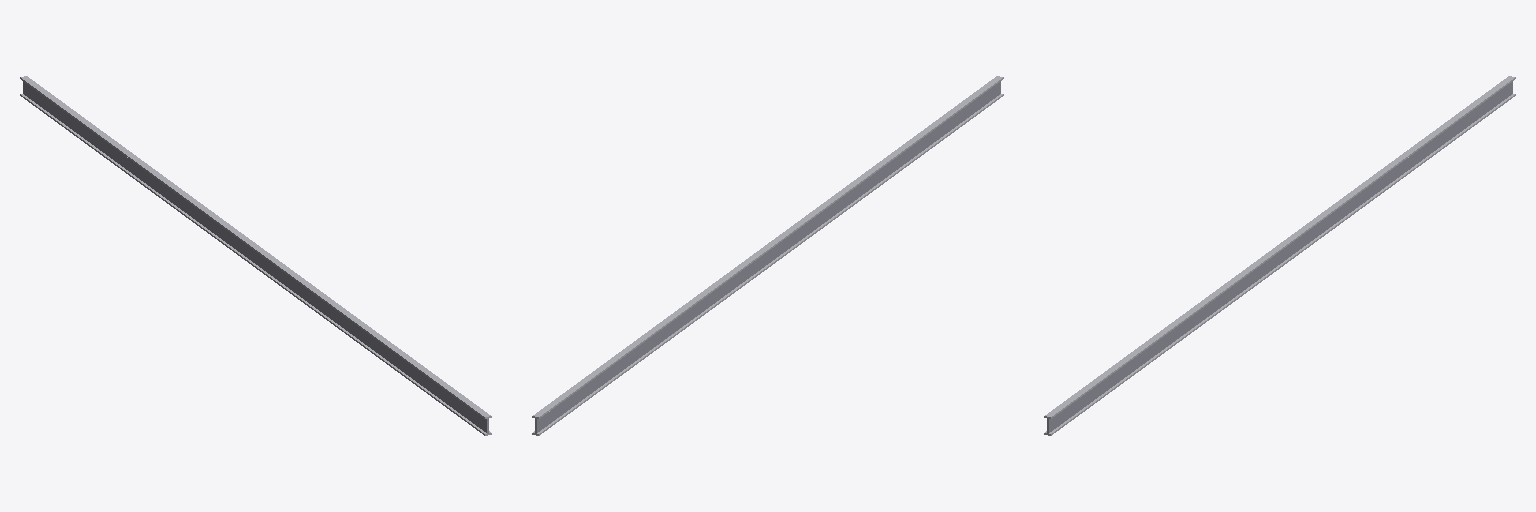
robot.urdf — h_bar:
<?xml version="1.0" ?>
<!-- =================================================================================== -->
<!-- |    This document was autogenerated by xacro from h_bar.xacro                    | -->
<!-- |    EDITING THIS FILE BY HAND IS NOT RECOMMENDED                                 | -->
<!-- =================================================================================== -->
<robot name="h_bar">
  <link name="world"/>
  <!-- Bottom leg (aligned with z-axis after rotation, below origin) -->
  <link name="hbar_bottom_leg">
    <visual>
      <origin rpy="0 1.57079633 0" xyz="0 0 0"/>
      <geometry>
        <!-- thickness x, profile width y, leg length along local z -->
        <box size="0.01 5.0 0.04"/>
      </geometry>
      <material name="hbar_material_bottom">
        <!-- Brushed steel-like gray -->
        <color rgba="0.75 0.75 0.78 1.0"/>
      </material>
    </visual>
    <collision>
      <origin rpy="0 1.57079633 0" xyz="0 0 0"/>
      <geometry>
        <box size="0.01 5.0 0.04"/>
      </geometry>
    </collision>
    <inertial>
      <origin rpy="0 0 0" xyz="0 0 0"/>
      <mass value="0.3333333333333333"/>
      <inertia ixx="0.6944888888888888" ixy="0.0" ixz="0.0" iyy="4.722222222222222e-05" iyz="0.0" izz="0.6944472222222222"/>
    </inertial>
  </link>
  <!-- Top leg (aligned with z-axis after rotation, above origin) -->
  <link name="hbar_top_leg">
    <visual>
      <origin rpy="0 1.57079633 0" xyz="0 0 0"/>
      <geometry>
        <box size="0.01 5.0 0.04"/>
      </geometry>
      <material name="hbar_material_top">
        <!-- Brushed steel-like gray -->
        <color rgba="0.75 0.75 0.78 1.0"/>
      </material>
    </visual>
    <collision>
      <origin rpy="0 1.57079633 0" xyz="0 0 0"/>
      <geometry>
        <box size="0.01 5.0 0.04"/>
      </geometry>
    </collision>
    <inertial>
      <origin rpy="0 0 0" xyz="0 0 0"/>
      <mass value="0.3333333333333333"/>
      <inertia ixx="0.6944888888888888" ixy="0.0" ixz="0.0" iyy="4.722222222222222e-05" iyz="0.0" izz="0.6944472222222222"/>
    </inertial>
  </link>
  <!-- Crossbar: vertical (aligned with z-axis) at the origin -->
  <link name="hbar_crossbar">
    <visual>
      <!-- Thickness in x,y, length in z -->
      <origin rpy="0 0 0" xyz="0 0 0"/>
      <geometry>
        <box size="0.01 5.0 0.1"/>
      </geometry>
      <material name="hbar_material_cross">
        <!-- Slightly darker steel for visual contrast -->
        <color rgba="0.65 0.65 0.7 1.0"/>
      </material>
    </visual>
    <collision>
      <origin rpy="0 0 0" xyz="0 0 0"/>
      <geometry>
        <box size="0.01 5.0 0.1"/>
      </geometry>
    </collision>
    <inertial>
      <origin rpy="0 0 0" xyz="0 0 0"/>
      <mass value="0.3333333333333333"/>
      <inertia ixx="0.6947222222222222" ixy="0.0" ixz="0.0" iyy="0.0002805555555555556" iyz="0.0" izz="0.6944472222222222"/>
    </inertial>
  </link>
  <!-- Fix crossbar to world; its center is at the macro pose -->
  <joint name="hbar_cross_fix" type="fixed">
    <parent link="world"/>
    <child link="hbar_crossbar"/>
    <origin rpy="0 0 0" xyz="0 0 0"/>
  </joint>
  <!-- Top leg: translated +L_leg/2 in x and +L_span/2 in z relative to crossbar -->
  <joint name="hbar_top_fix" type="fixed">
    <parent link="hbar_crossbar"/>
    <child link="hbar_top_leg"/>
    <origin rpy="0 0.0 0" xyz="0 0 0.05"/>
  </joint>
  <!-- Bottom leg: translated +L_leg/2 in x and -L_span/2 in z relative to crossbar -->
  <joint name="hbar_bottom_fix" type="fixed">
    <parent link="hbar_crossbar"/>
    <child link="hbar_bottom_leg"/>
    <origin rpy="0 0 0" xyz="0 0 -0.05"/>
  </joint>
</robot>

--- Facts derived from the render (not from the file) ---
3 views of the same robot in one strip: view 1: azimuth 30°, elevation 25°; view 2: azimuth 150°, elevation 25°; view 3: azimuth 330°, elevation 25° (orthographic).
Model h_bar with 4 links and 3 joints (3 fixed), rooted at world, posed all joints at 0.
Links seen in each view (by area): view 1: hbar_crossbar, hbar_top_leg, hbar_bottom_leg; view 2: hbar_crossbar, hbar_top_leg, hbar_bottom_leg; view 3: hbar_crossbar, hbar_top_leg, hbar_bottom_leg.
Link boxes in pixels (left/top/right/bottom): hbar_crossbar: left=23, top=81, right=488, bottom=433; hbar_top_leg: left=20, top=76, right=491, bottom=418; hbar_bottom_leg: left=20, top=94, right=491, bottom=435; hbar_crossbar: left=535, top=81, right=1000, bottom=433; hbar_top_leg: left=532, top=76, right=1003, bottom=418; hbar_bottom_leg: left=532, top=94, right=1003, bottom=435; hbar_crossbar: left=1047, top=81, right=1512, bottom=433; hbar_top_leg: left=1044, top=76, right=1515, bottom=418; hbar_bottom_leg: left=1044, top=94, right=1515, bottom=435.
Size in the robot's own frame: 0.04 by 5 by 0.11 metres.
Geometry: primitives only (box / cylinder / sphere), no mesh files.
